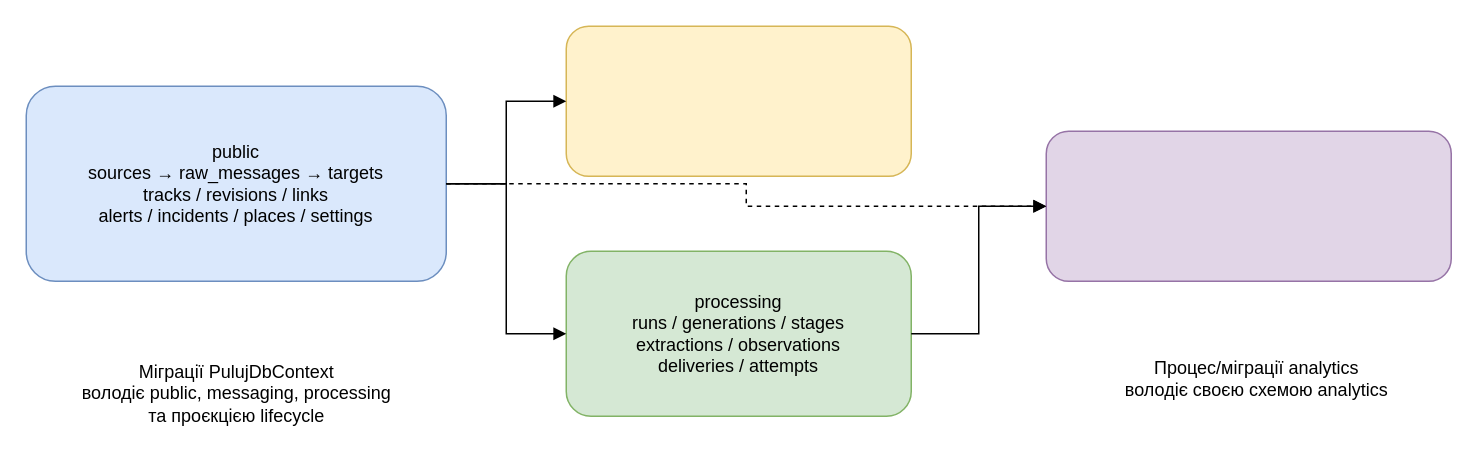
Image size: 1478x458. Some labels were removed from this diagram. Here are the shapes that lost their labels. From the top down, the centre of each, then its label:
(738,100): messaging outbox / inbox / archive subscriptions / lane controls
(1248,205): analytics messages / copies / track_firsts runs / state / message_lifecycle
